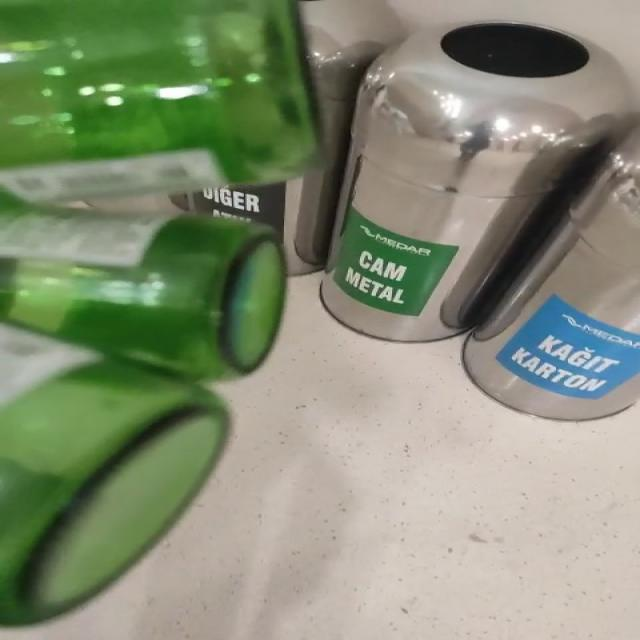glass: (1, 0, 316, 627)
